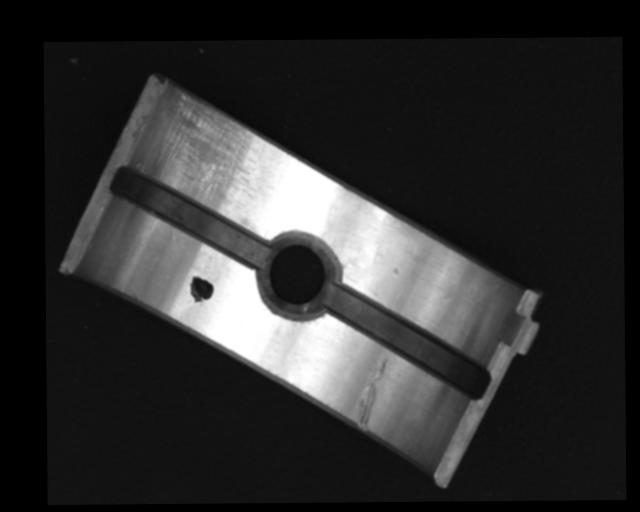blot: (188, 274, 215, 303)
bruise: (391, 266, 400, 279)
gap: (325, 282, 488, 398), (109, 165, 270, 269)
hole: (259, 231, 339, 318)
nick: (355, 357, 387, 432)
scratch: (152, 91, 264, 210)
